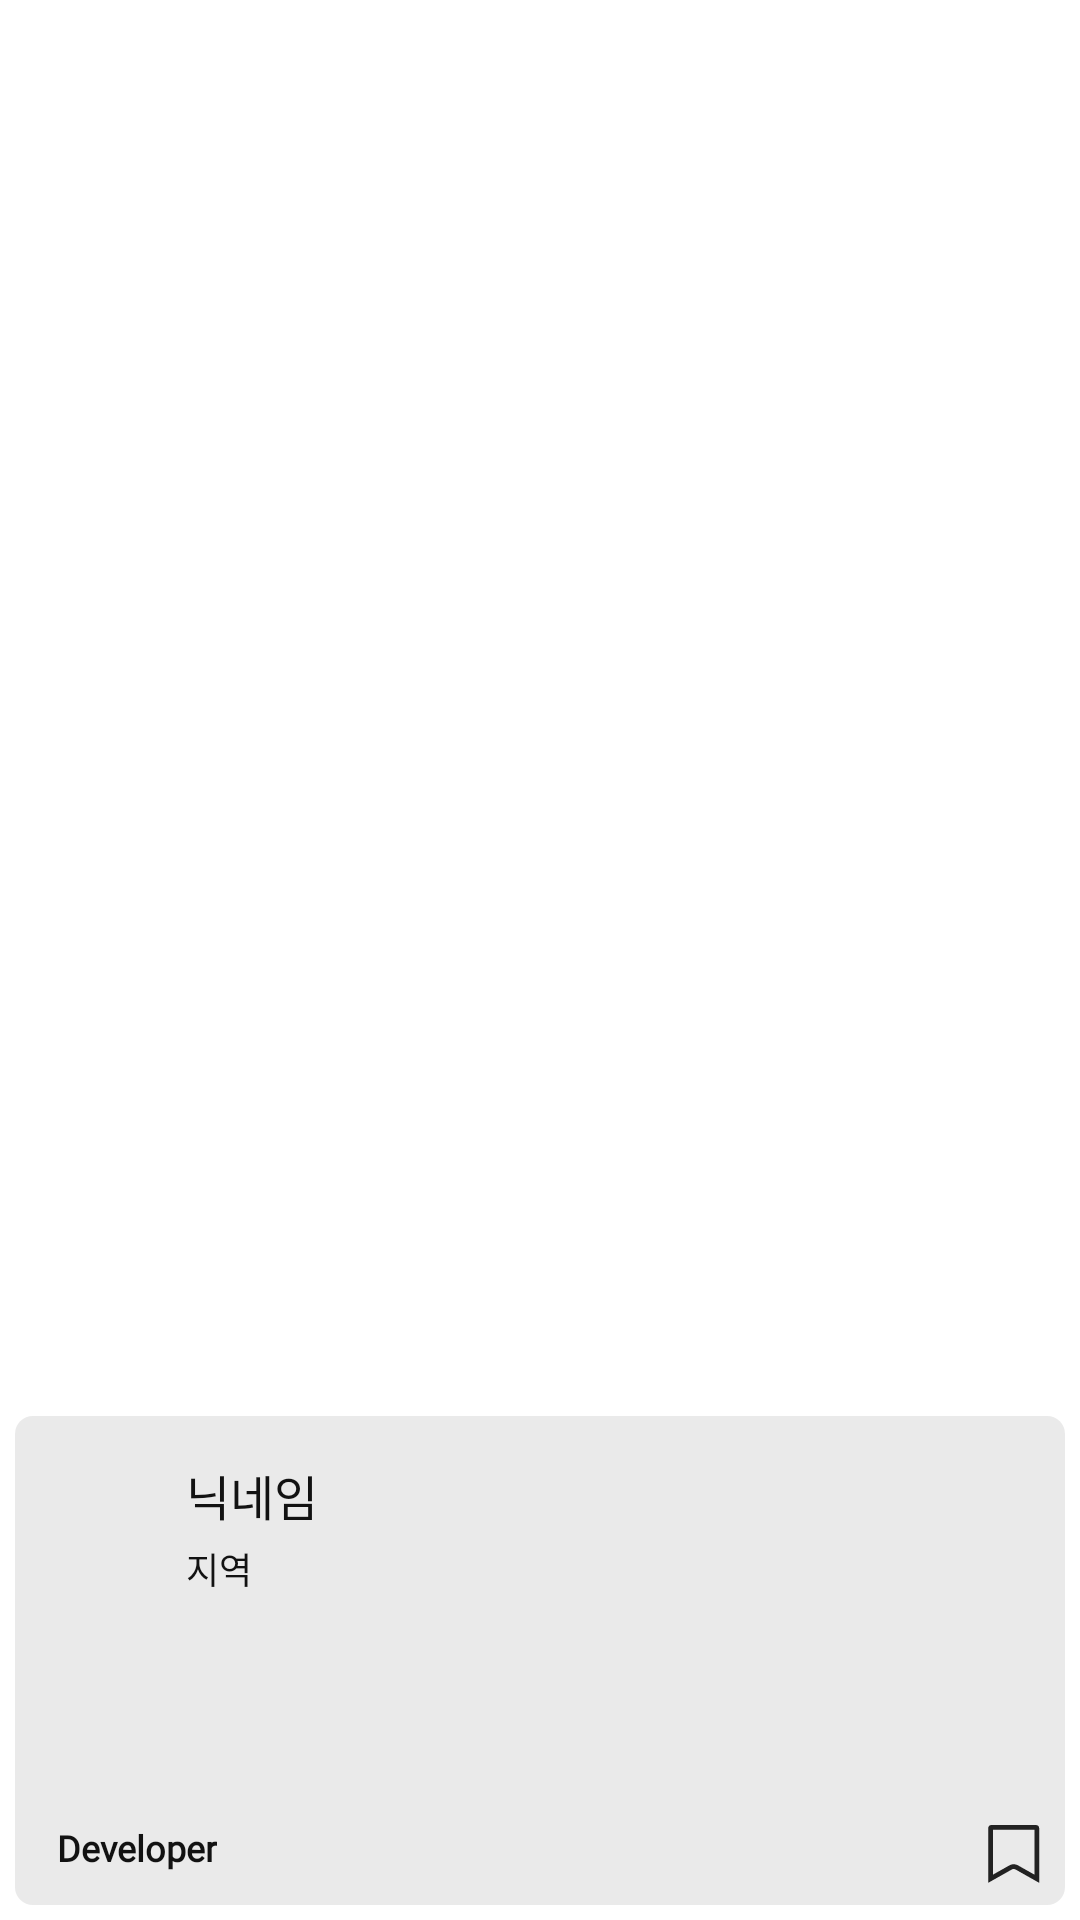

Point at icon controls on the screen. Image size 1080x1920, points as (x=x, y=y).
bookmark: (x=1014, y=1854)
